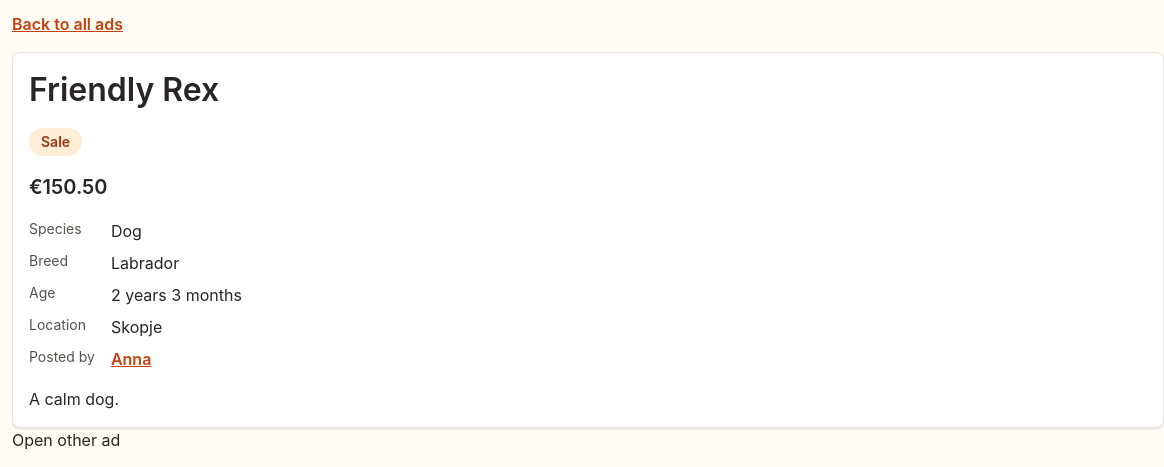
Test: PetAdDetailsPage creator › shows Posted by with a link that opens the creator profile
Check: the text "Posted by" is shown, box [29, 347, 95, 371]
What coordinates should you click on to do the following:
click the link "Anna"
I would click on:
 (131, 359)
Its box is [111, 349, 151, 369].
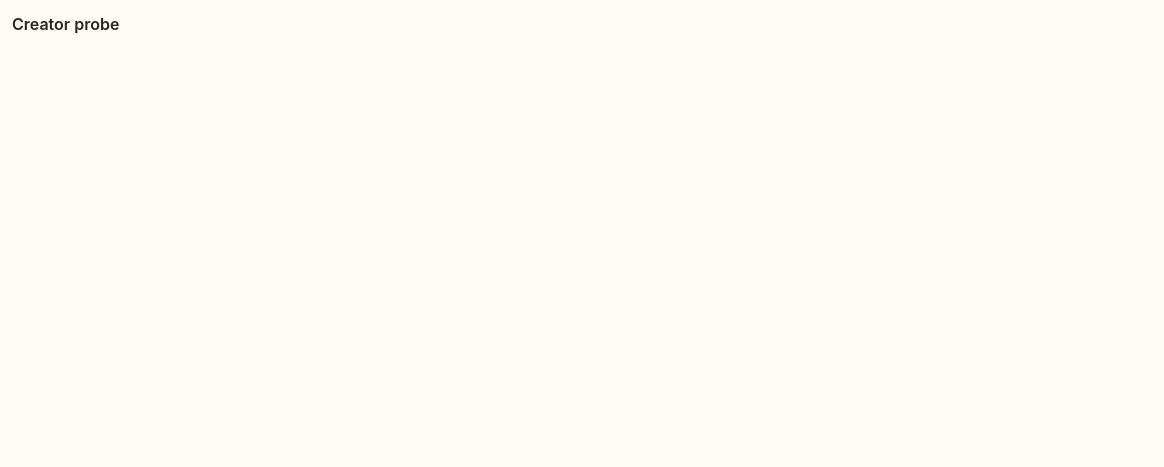
Check: the heading "Creator probe" is shown, box [12, 14, 119, 34]
